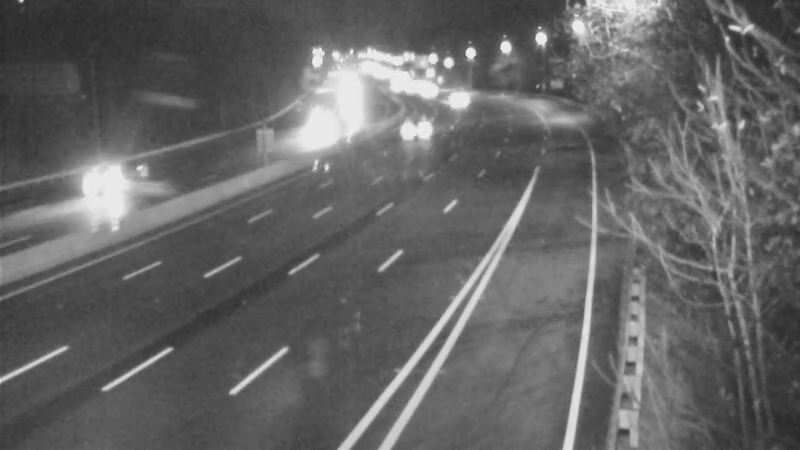vehicle: (66, 140, 146, 220), (428, 72, 478, 122), (392, 108, 442, 158), (293, 106, 343, 156)
